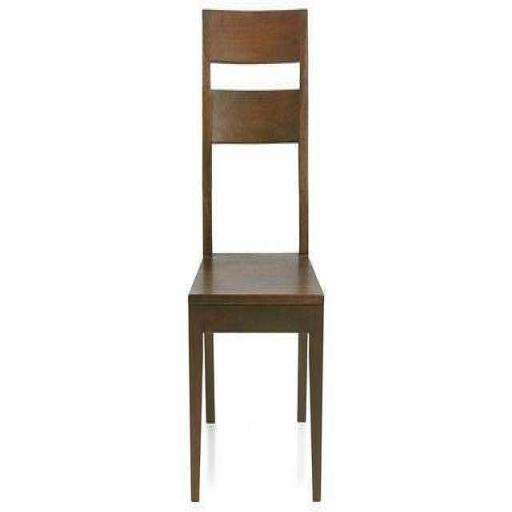chair: (182, 2, 328, 506)
